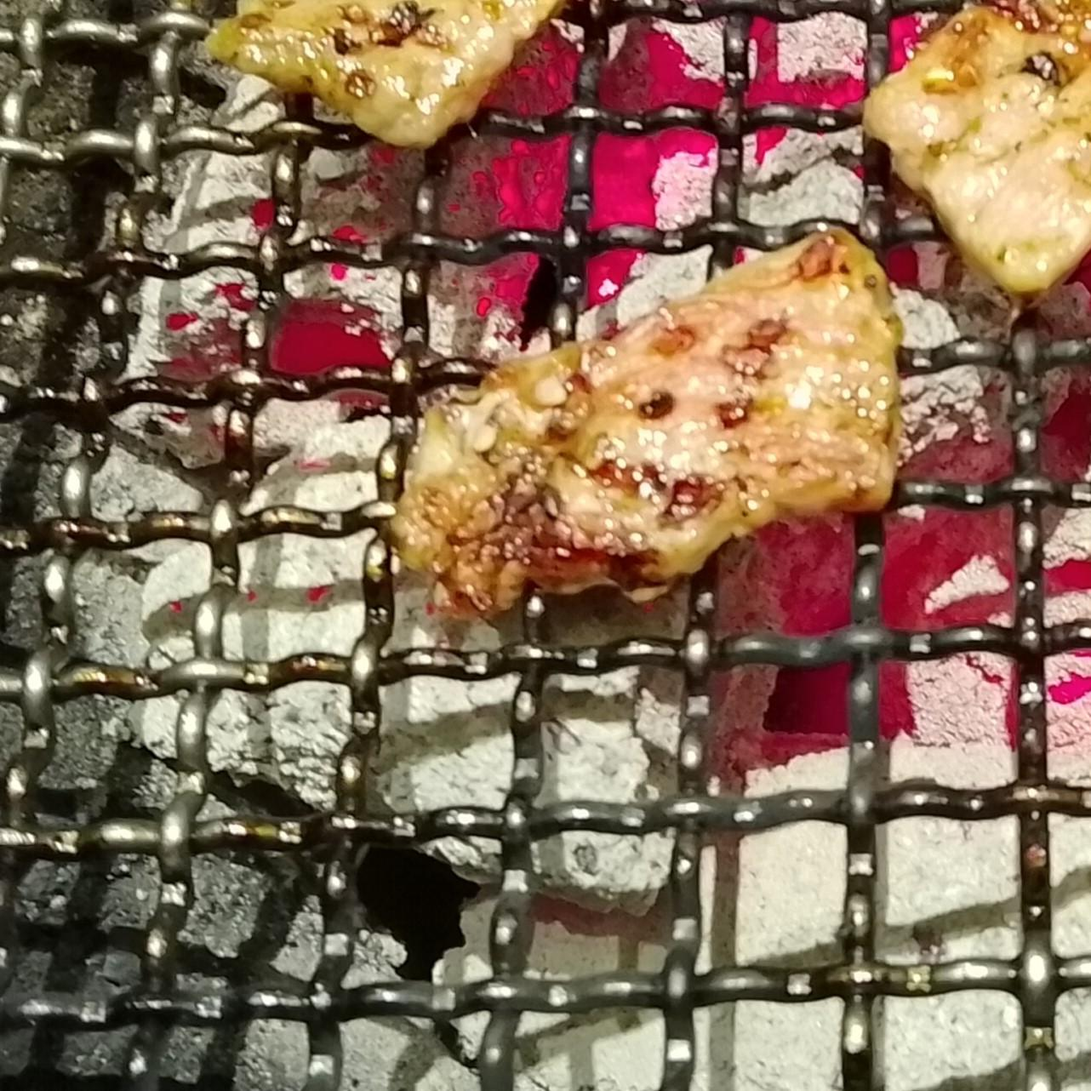Overcooked: (384, 232, 904, 624), (203, 0, 579, 150)
Well-Cooked: (865, 0, 1090, 303)
